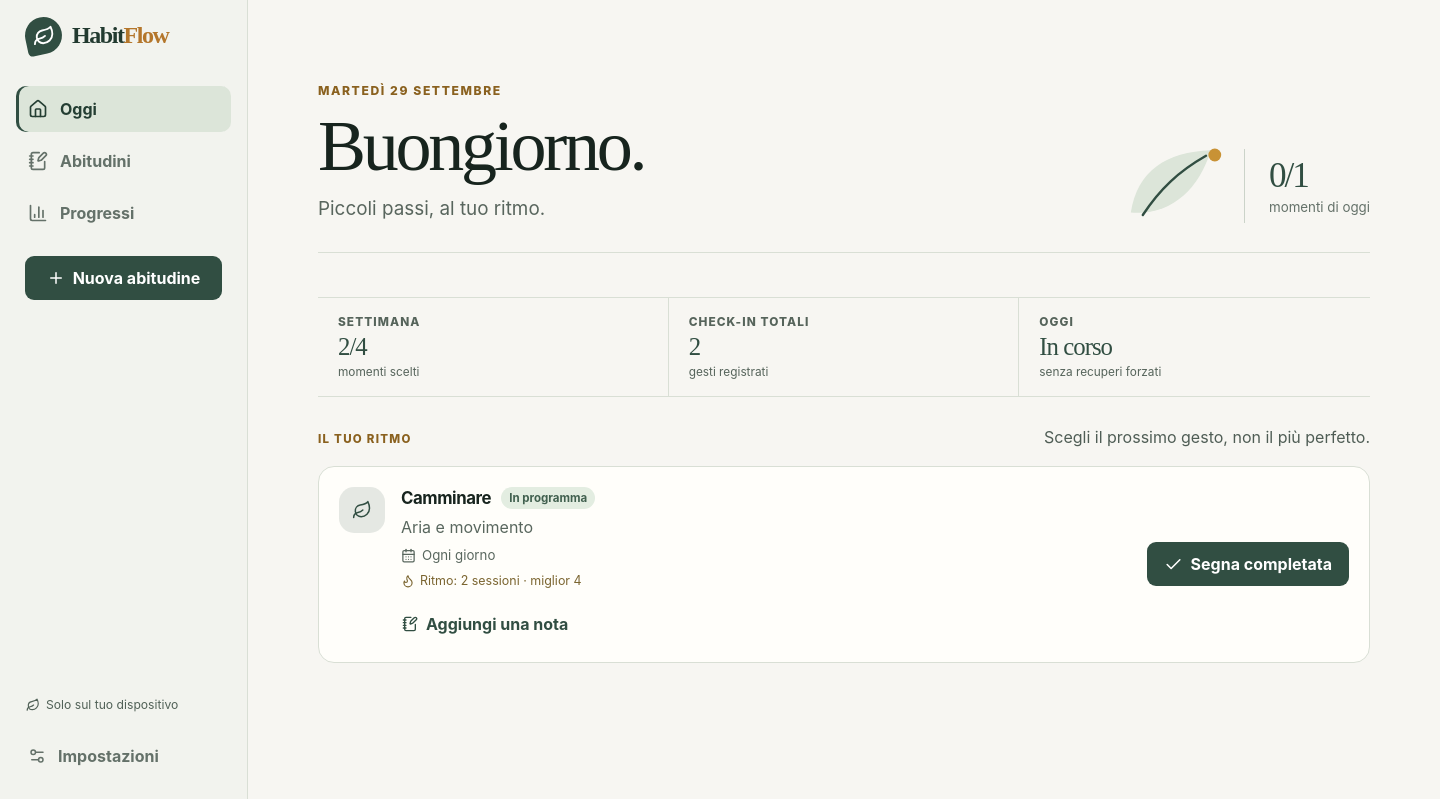
Scenario: HabitFlow UI › renders an accessible analytics calendar with a textual data path
The width and height of the screenshot is (1440, 799).
expect the heading "Buongiorno." is shown: met, box left=318, top=111, right=644, bottom=182
Step 1. Click the button "Progressi" → (124, 213), box left=16, top=190, right=231, bottom=236
(page scrolled)
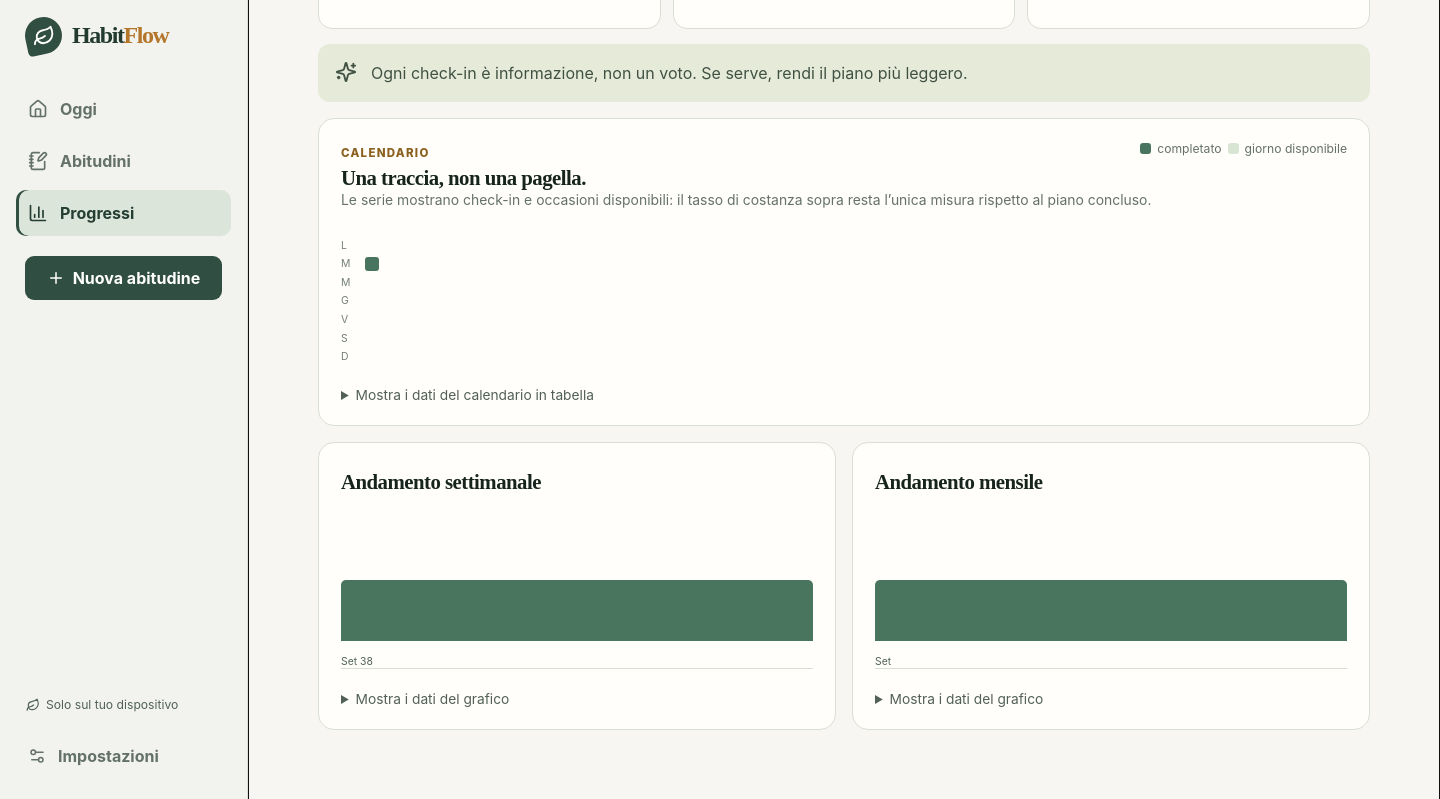
expect the picture named "Calendario dal 2026-09-01" is shown: met, box left=341, top=239, right=379, bottom=363
expect the heading "Mostra i dati del calendario in tabella" is shown: met, box left=356, top=387, right=594, bottom=403
